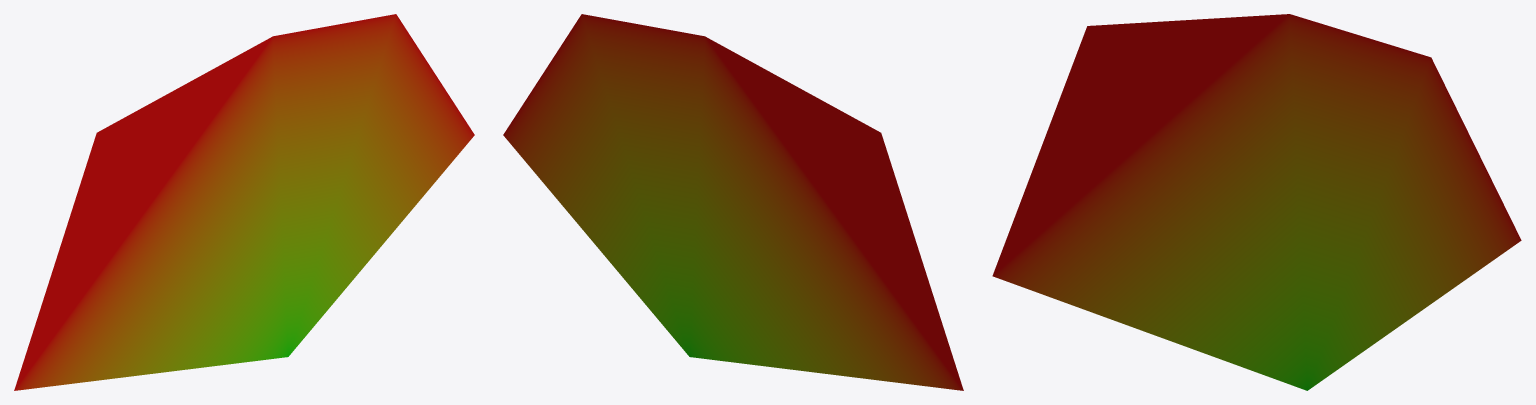
Rendered from Lily Of The Valley_LOD7_Var7_xikkdhjja.fbx.
The picture shows the model from 3 angles, left to right: view 1: azimuth 30°, elevation 25°; view 2: azimuth 150°, elevation 25°; view 3: azimuth 330°, elevation 25°; orthographic projection. The views are drawn at different scales.
Parts seen in each view (by area): view 1: _bdj3_Var7_LOD7; view 2: _bdj3_Var7_LOD7; view 3: _bdj3_Var7_LOD7.
Boxes of the visible parts, <box> form: _bdj3_Var7_LOD7: <box>14,14,474,390</box>; _bdj3_Var7_LOD7: <box>503,14,963,390</box>; _bdj3_Var7_LOD7: <box>992,14,1521,390</box>.
Bounding box in the file's own units: 34.18 × 23 × 1.82e-12.
